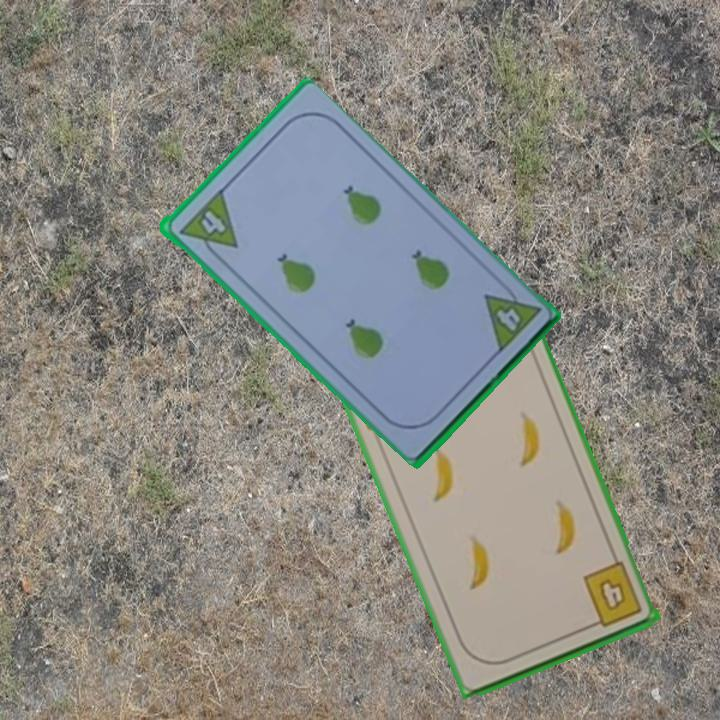4b: (579, 558, 645, 631)
4p: (175, 186, 240, 265), (479, 276, 543, 355)
